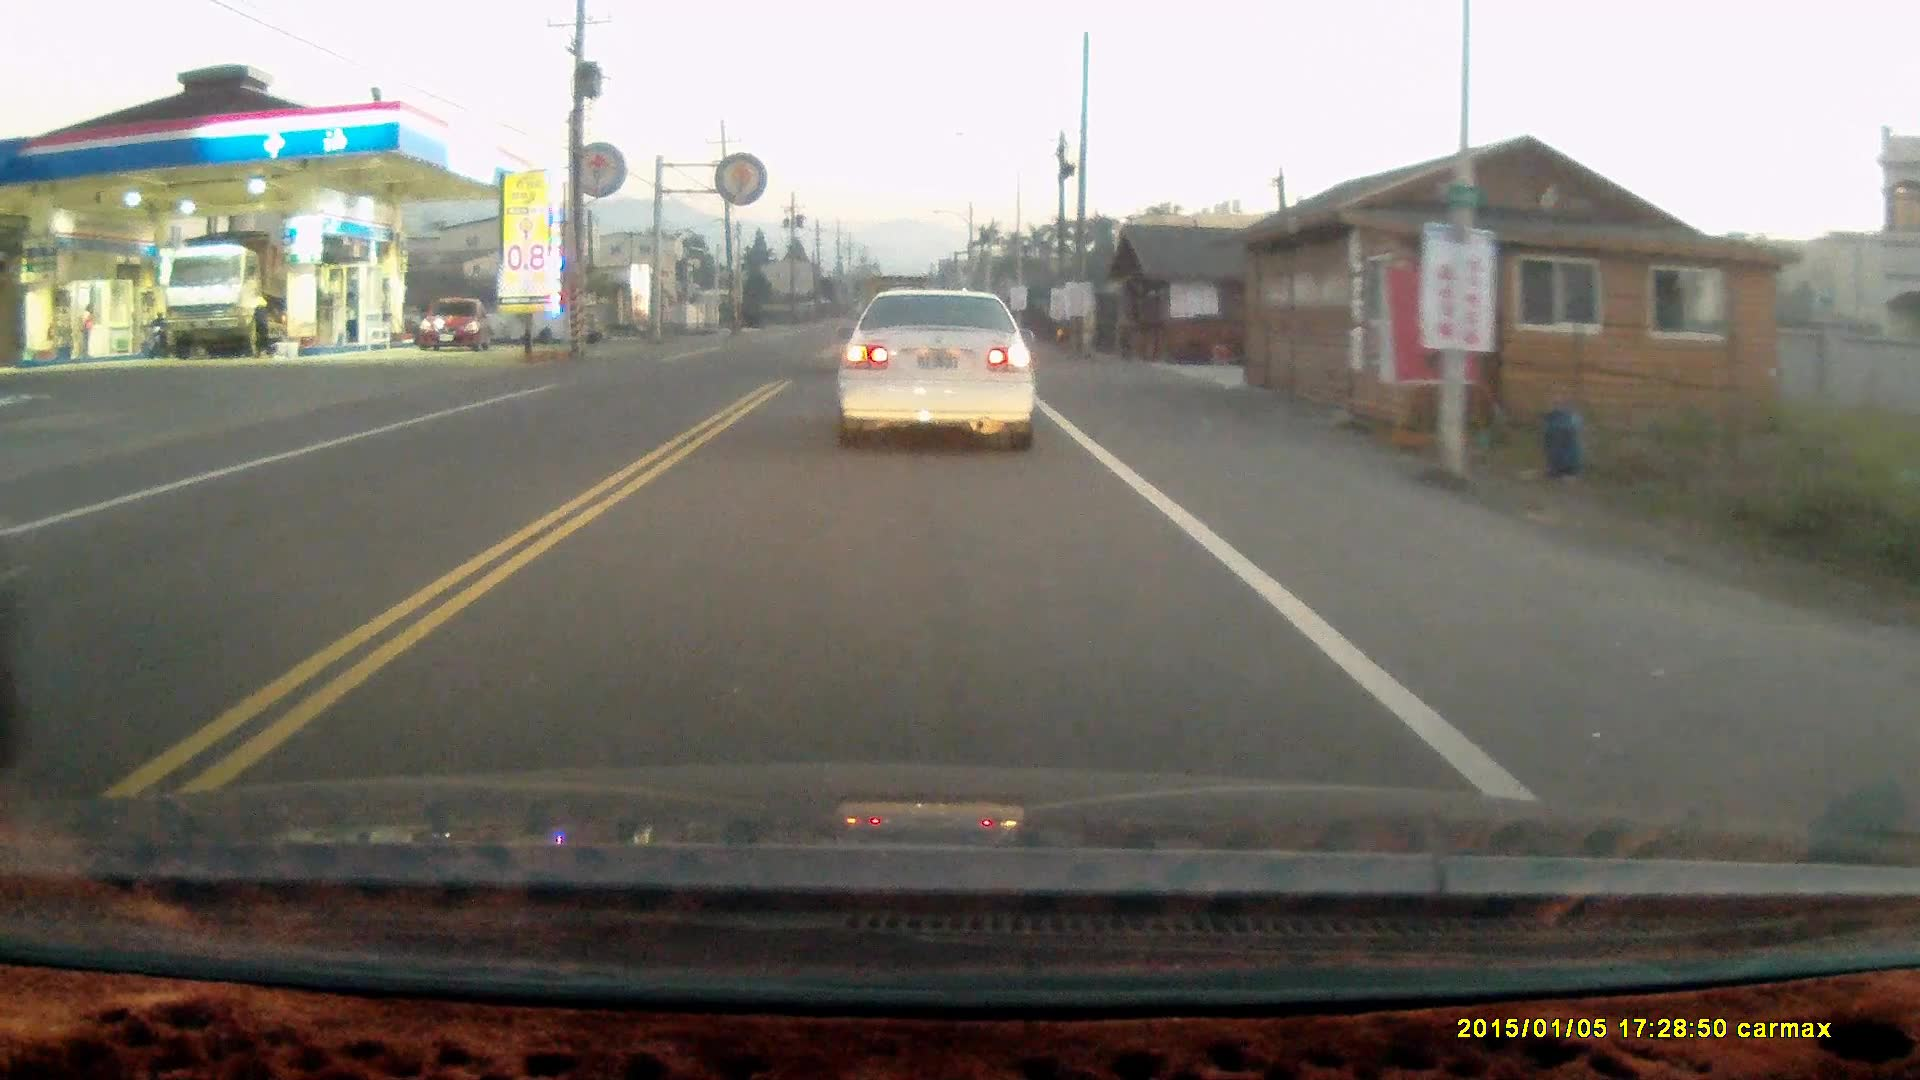pedestrian: (244, 284, 272, 353)
vehicle: (836, 280, 1042, 454), (161, 235, 284, 357), (418, 300, 497, 354)
